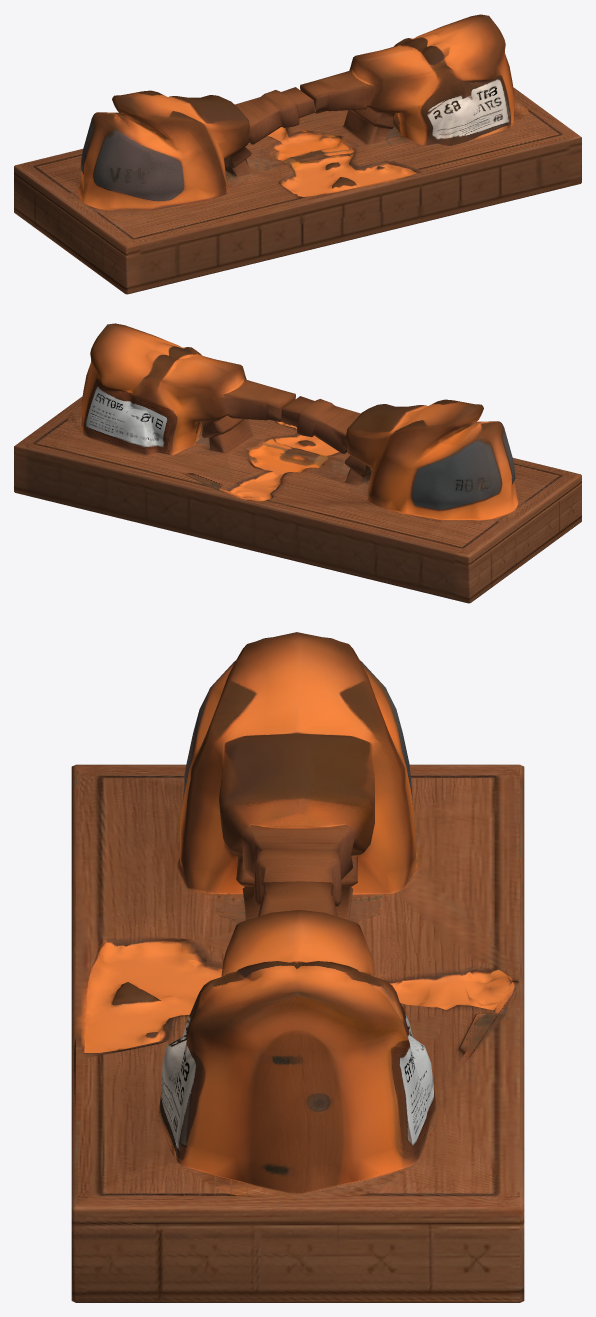
Rendered from broken_wash_bridge.glb.
3 views of the same model, one above another, from view 1: azimuth 30°, elevation 25°; view 2: azimuth 150°, elevation 25°; view 3: azimuth 270°, elevation 25° (orthographic). The views are drawn at different scales.
Bounding box in the file's own units: 1.91 × 0.5675 × 0.818.
Materials: 1 (1 with a texture image).
